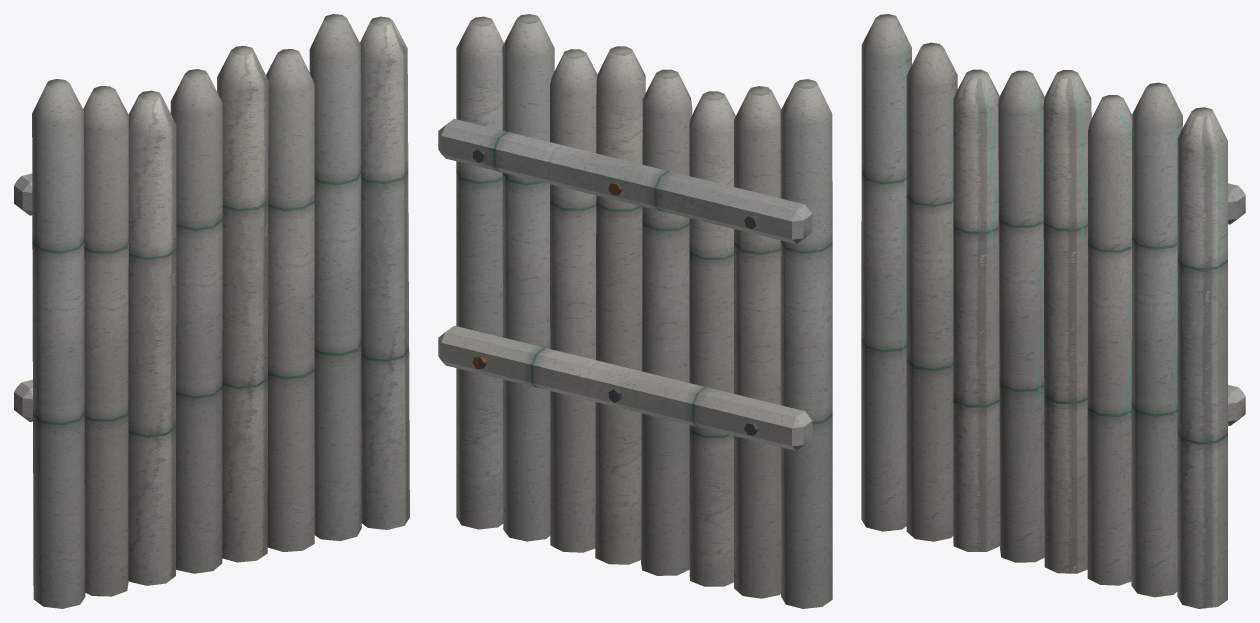
The model's file is sur_duvari.glb.
3 views of the same model, side by side, from view 1: azimuth 30°, elevation 25°; view 2: azimuth 150°, elevation 25°; view 3: azimuth 330°, elevation 25° (orthographic). The views are drawn at different scales.
Parts seen in each view (by area): view 1: sur_duvari; view 2: sur_duvari; view 3: sur_duvari.
Part boxes in pixels (x1,y1,x2,y2): sur_duvari: (14,14,409,608); sur_duvari: (438,14,832,608); sur_duvari: (861,14,1245,608).
Bounding box in the file's own units: 2.98 × 3.98 × 0.6102.
Materials: 1 (1 with a texture image).
